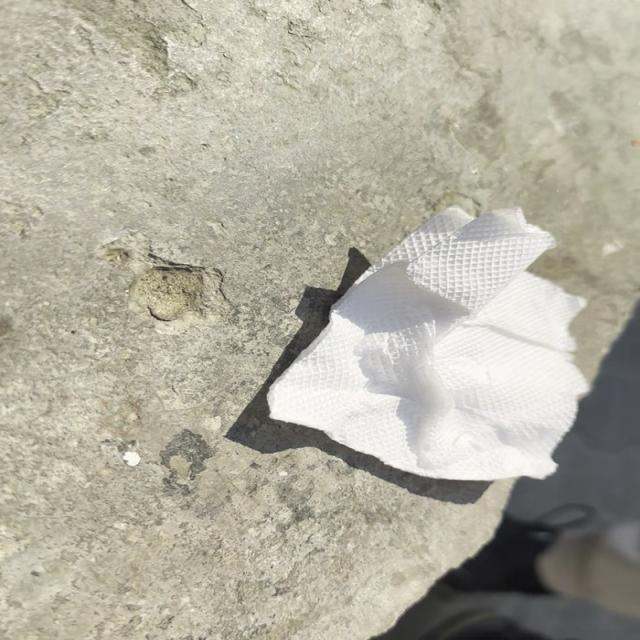tissue: (262, 201, 597, 488)
